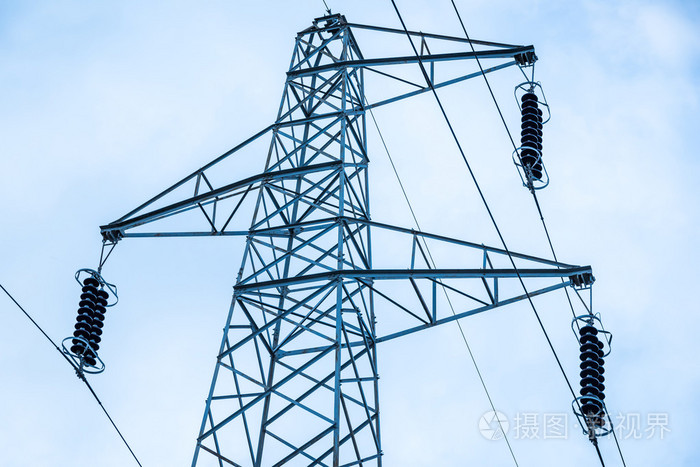insulator: (72, 276, 110, 356), (578, 328, 610, 422), (519, 92, 546, 181)
